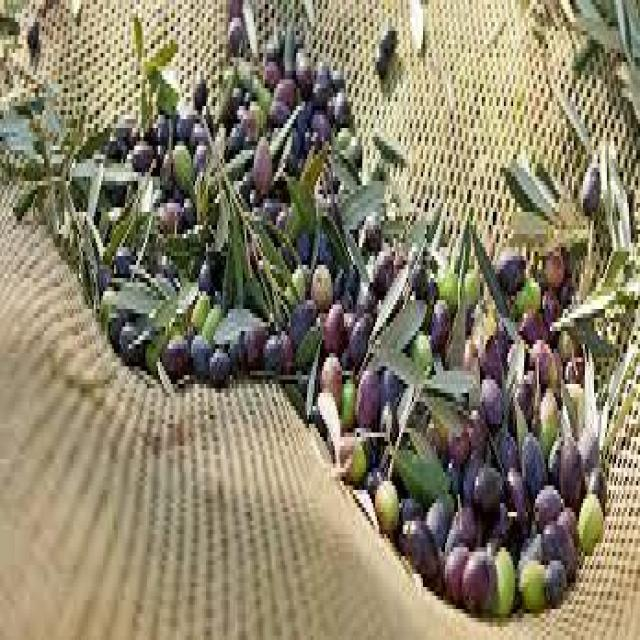Healthy: (85, 31, 603, 609)
